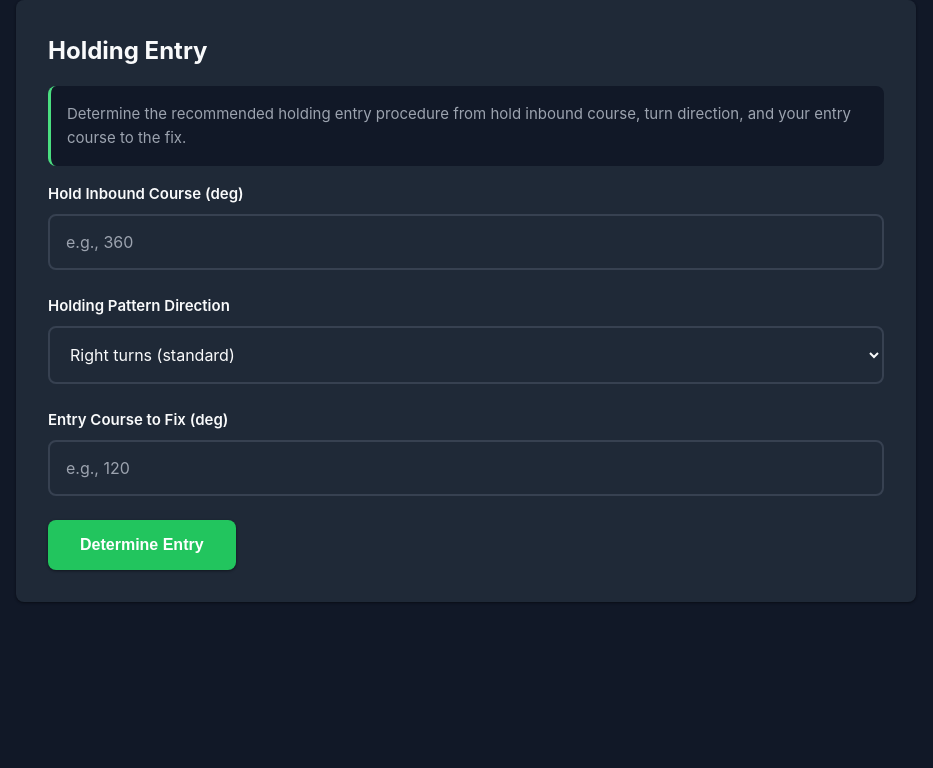
Test: HoldingEntryComponent › determines an entry procedure and renders a result
Type "360" into the number field with id "hold-inbound-course".
click(466, 242); type("360")  # box [48,214,884,270]
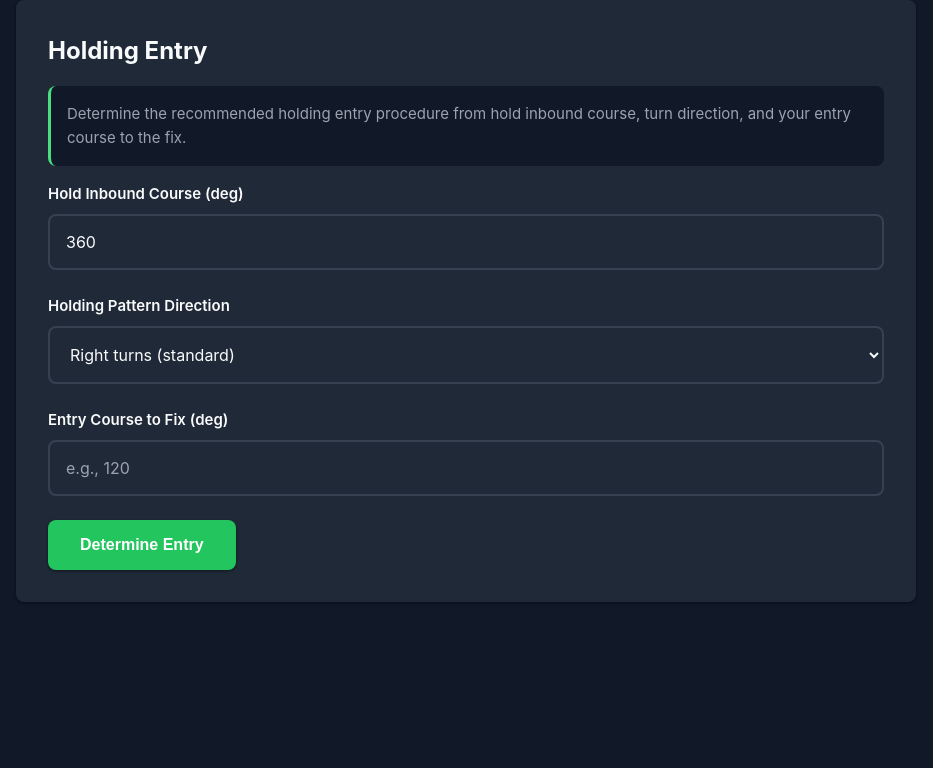
Type "240" into the number field with id "entry-course".
click(466, 468); type("240")  # box [48,440,884,496]
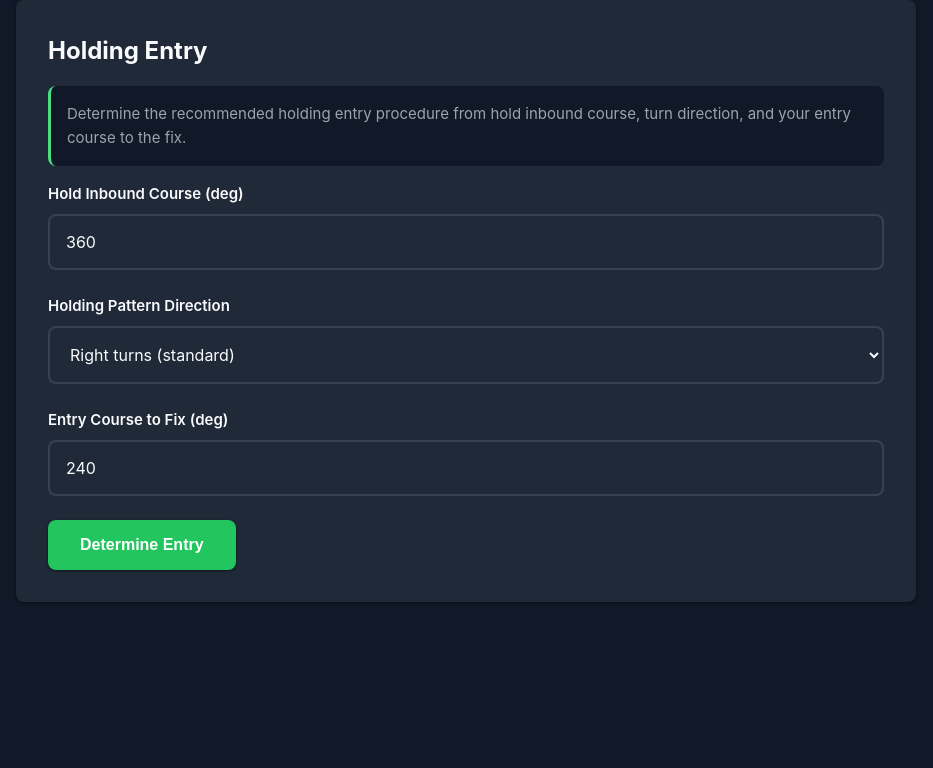
Select "Right turns (standard)" in the dropdown labelled "Holding Pattern Direction" at (466, 355), box [48,326,884,384]
Click the button "Determine Entry".
click(142, 545)  # box [48,520,236,570]
(page scrolled)
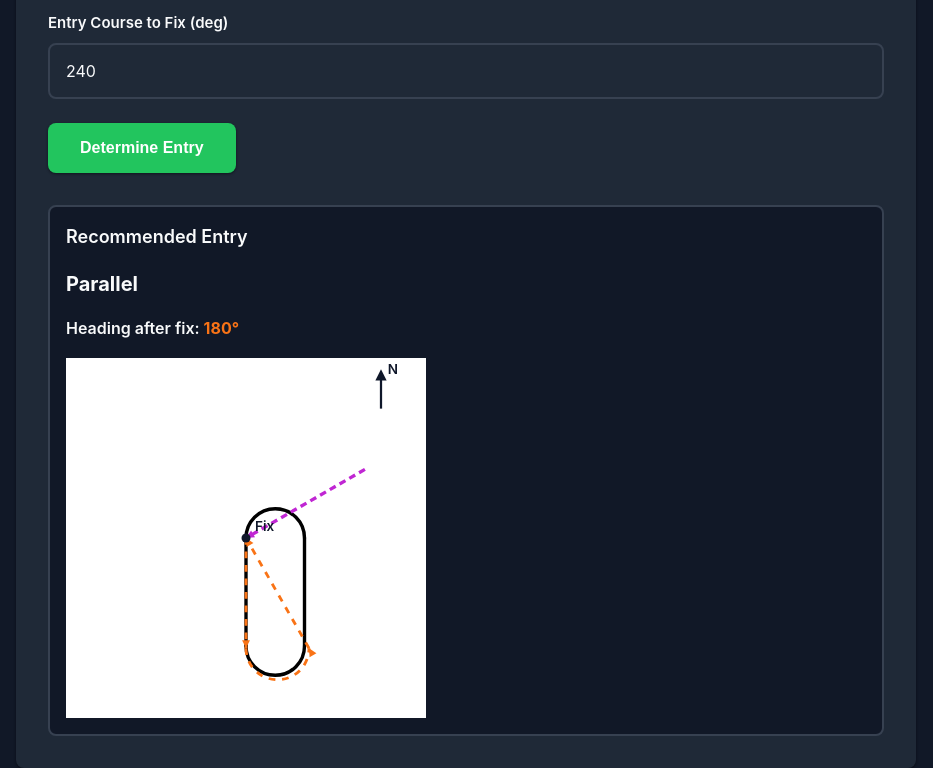
expect the text with id "entry-procedure-name" reads "Parallel": met, box [66,272,138,296]
expect the picture with class "entry-diagram" is shown: met, box [66,358,426,718]
